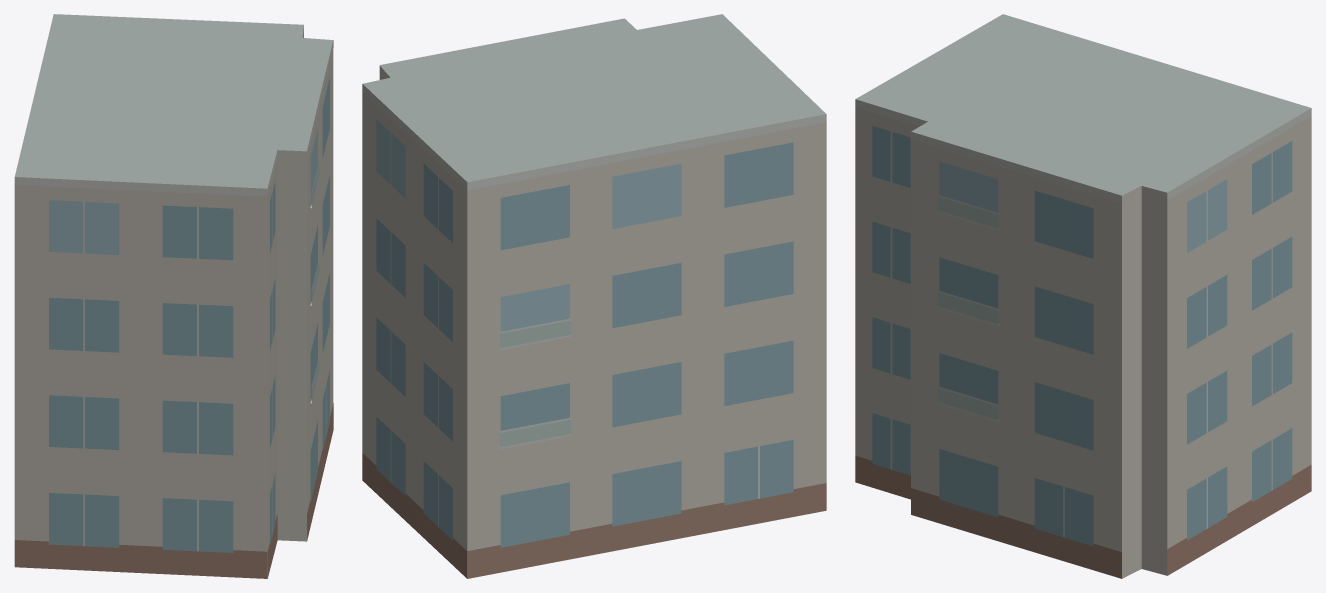
File: survey-upis-32933369.glb
The picture shows the model from 3 angles, left to right: view 1: azimuth 30°, elevation 25°; view 2: azimuth 150°, elevation 25°; view 3: azimuth 270°, elevation 25°; orthographic projection. The views are drawn at different scales.
Visible parts, largest first — view 1: survey-upis-32933369.tmp; view 2: survey-upis-32933369.tmp; view 3: survey-upis-32933369.tmp.
Boxes of the visible parts, left/top/right/bottom form: survey-upis-32933369.tmp: left=14, top=14, right=333, bottom=578; survey-upis-32933369.tmp: left=362, top=14, right=826, bottom=578; survey-upis-32933369.tmp: left=855, top=14, right=1311, bottom=578.
Bounding box in the file's own units: 12.11 × 11.9 × 12.85.
